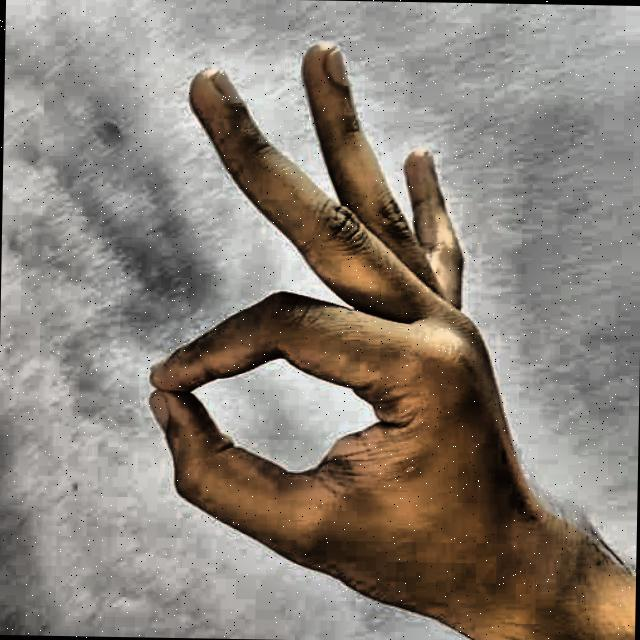Ca: (107, 20, 593, 640)
